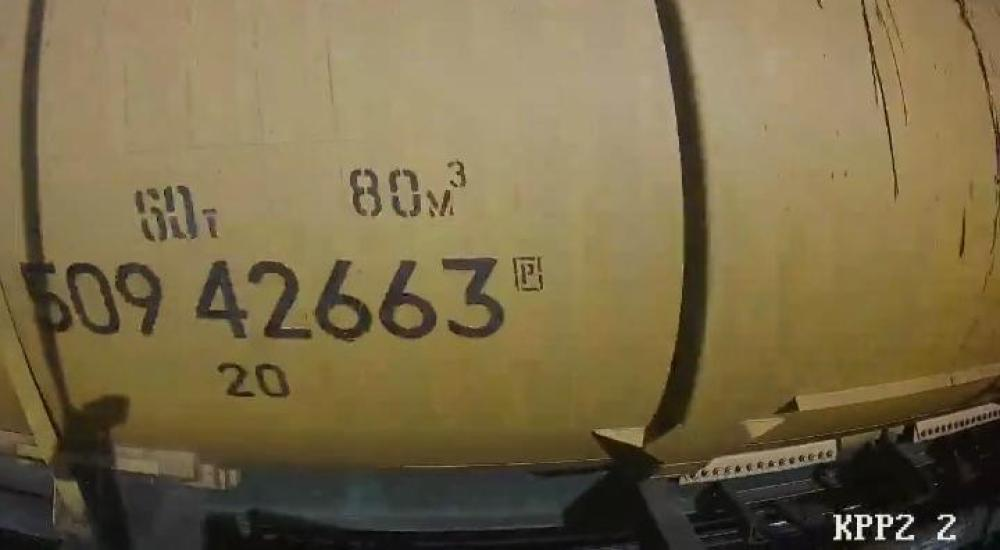Wagon-number: (13, 252, 511, 352)
